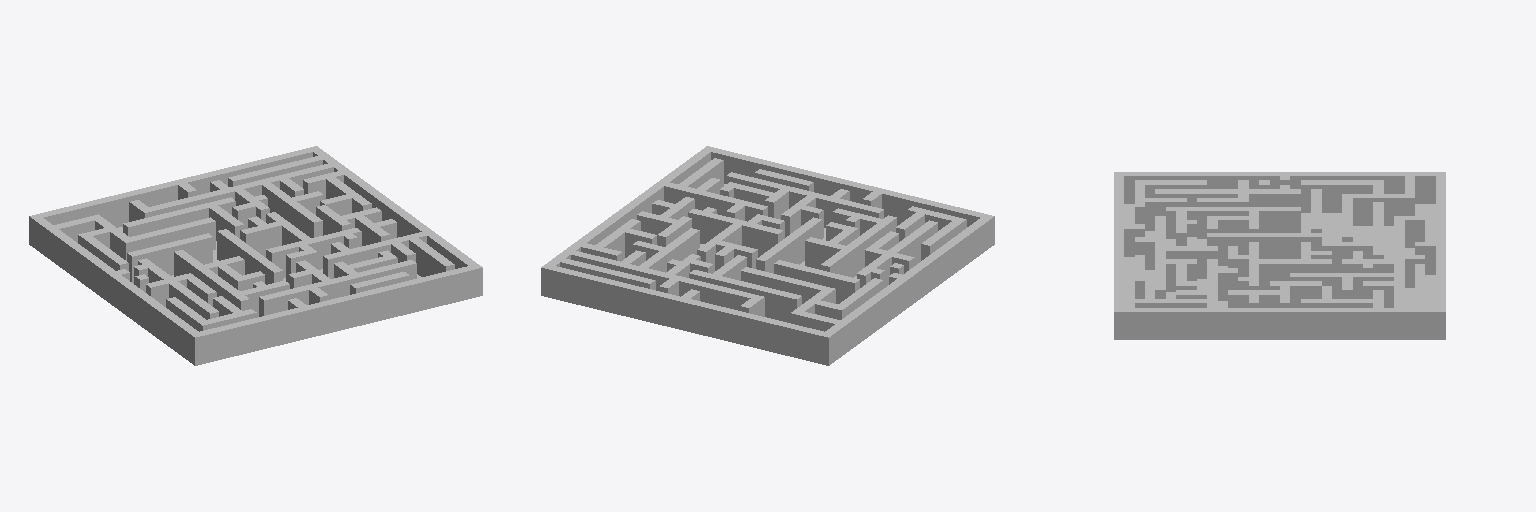
The model's file is maze.obj.
3 views of the same model, side by side, from view 1: azimuth 30°, elevation 25°; view 2: azimuth 150°, elevation 25°; view 3: azimuth 270°, elevation 25° (orthographic).
Parts seen in each view (by area): view 1: Plane; view 2: Plane; view 3: Plane.
Boxes of the visible parts, x1,y1,x2,y2 form: Plane: [29, 146, 482, 365]; Plane: [541, 146, 994, 365]; Plane: [1114, 172, 1445, 339].
Size of the model in its own units: 2 by 0.188 by 2.